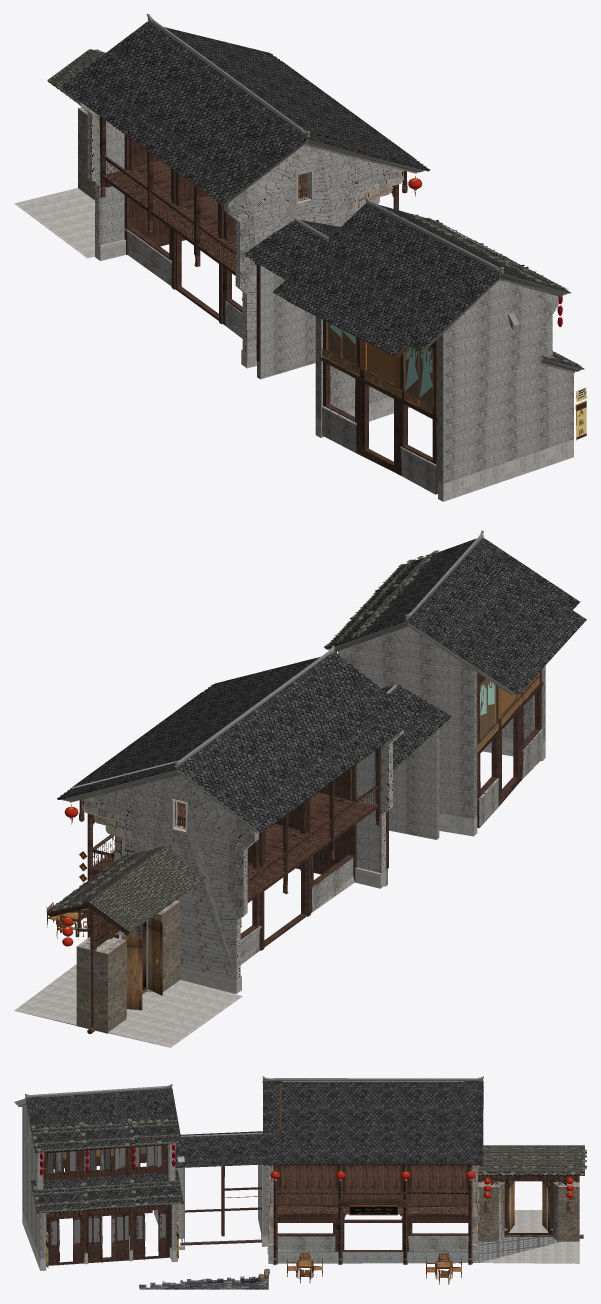
3 views of the same model, one above another, from view 1: azimuth 30°, elevation 25°; view 2: azimuth 150°, elevation 25°; view 3: azimuth 270°, elevation 25° (orthographic). The views are drawn at different scales.
Parts seen in each view (by area): view 1: building9; view 2: building9; view 3: building9.
Boxes of the visible parts, x1,y1,x2,y2 form: building9: [14, 14, 586, 501]; building9: [14, 530, 586, 1047]; building9: [14, 1076, 586, 1289].
Bounding box in the file's own units: 18.53 × 14.65 × 46.83.
Materials: 56 (47 with a texture image).
